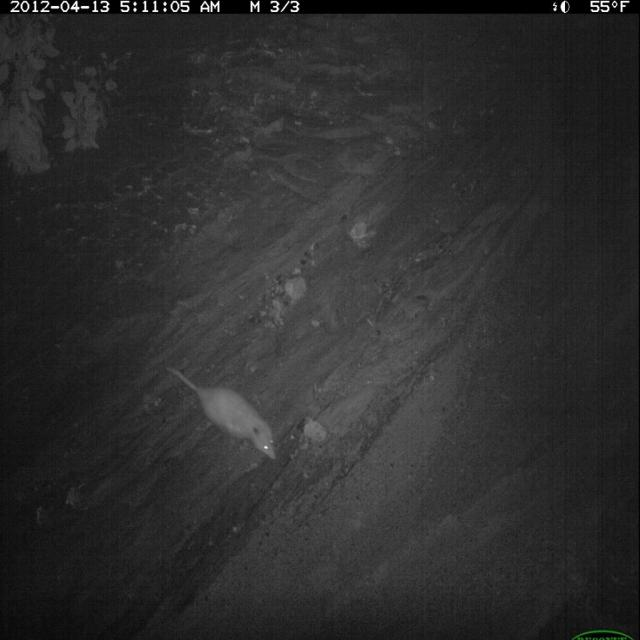opossum: (164, 359, 280, 467)
